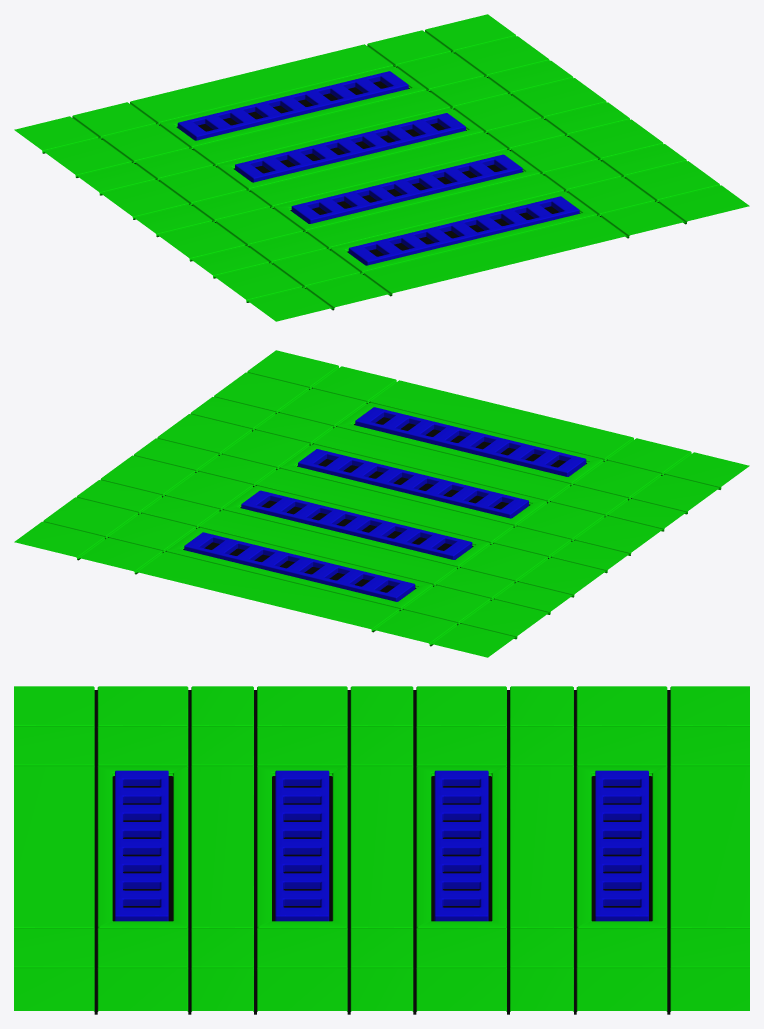
Rendered from SM_VavleRoom_Ceiling.fbx.
3 views of the same model, one above another, from view 1: azimuth 30°, elevation 25°; view 2: azimuth 150°, elevation 25°; view 3: azimuth 270°, elevation 25° (orthographic). The views are drawn at different scales.
Parts seen in each view (by area): view 1: SM_VavleRoom_Ceiling; view 2: SM_VavleRoom_Ceiling; view 3: SM_VavleRoom_Ceiling.
Boxes of the visible parts, <box> form: SM_VavleRoom_Ceiling: <box>14,14,749,321</box>; SM_VavleRoom_Ceiling: <box>14,350,749,657</box>; SM_VavleRoom_Ceiling: <box>14,686,749,1014</box>.
Bounding box in the file's own units: 1928 × 20.86 × 1848.
